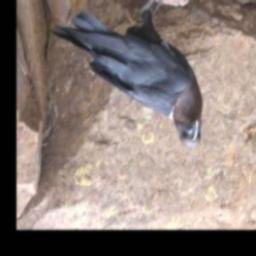Crow: (50, 0, 202, 149)
